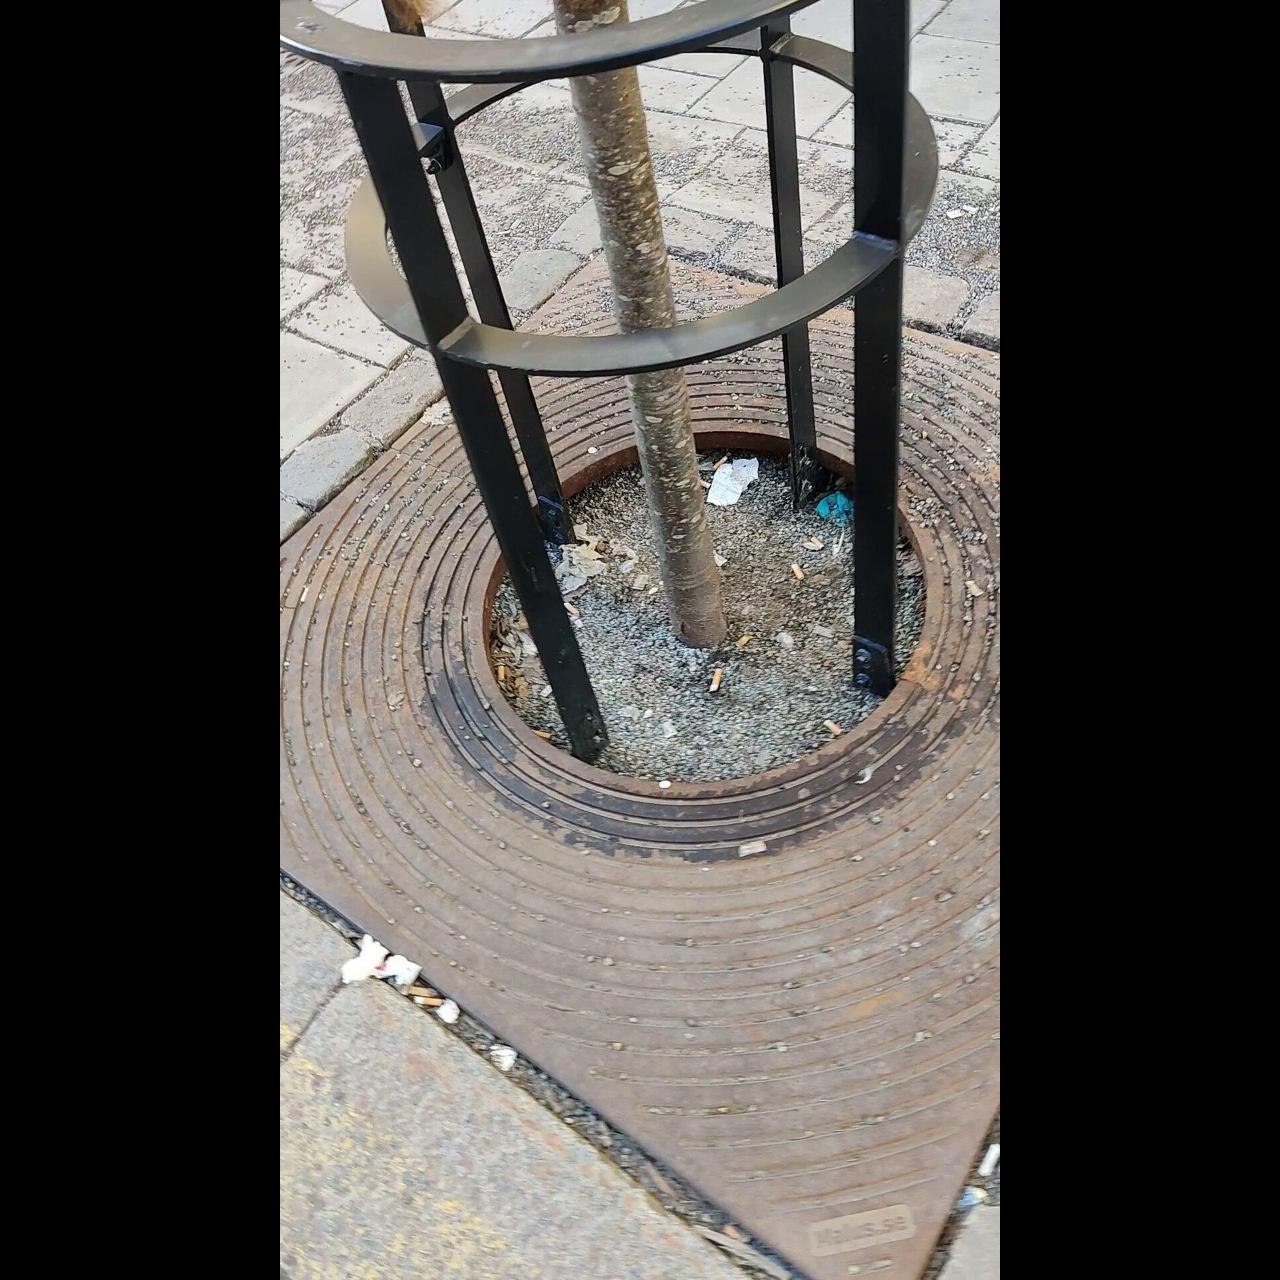cigarettes_butts: (400, 980, 438, 995), (710, 667, 726, 695), (822, 716, 842, 735), (736, 634, 754, 654), (712, 452, 728, 474), (809, 530, 825, 549), (787, 564, 805, 580), (530, 727, 552, 738), (414, 998, 444, 1006), (565, 602, 581, 617), (495, 663, 505, 683), (696, 478, 710, 491)
others: (960, 577, 986, 599), (738, 840, 768, 858)
